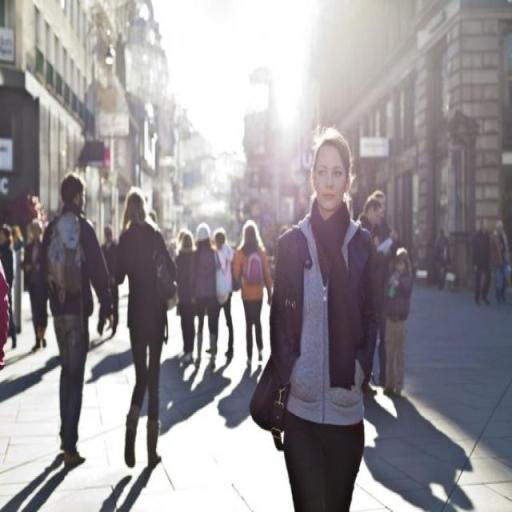person: (269, 122, 377, 512), (39, 173, 116, 474), (121, 189, 179, 476), (366, 192, 394, 384), (235, 221, 269, 370), (387, 250, 418, 401), (194, 222, 222, 378), (21, 218, 52, 352), (212, 231, 237, 363), (179, 232, 198, 365), (469, 217, 494, 308), (101, 225, 122, 332), (1, 220, 18, 352), (491, 221, 512, 304), (432, 229, 452, 291)
